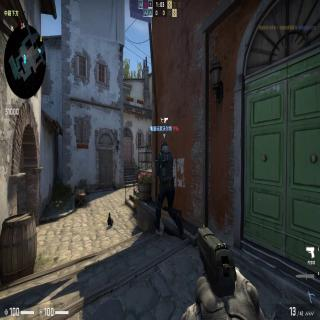CT-Body: (154, 140, 184, 239)
